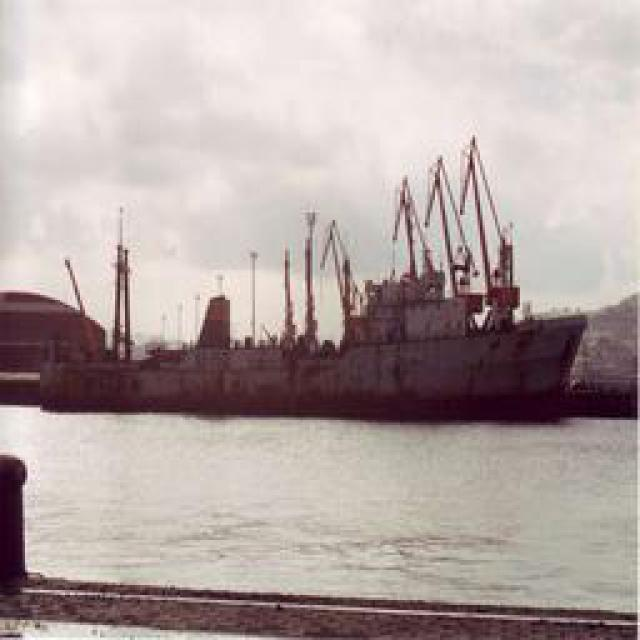Ship: (29, 308, 594, 423)
